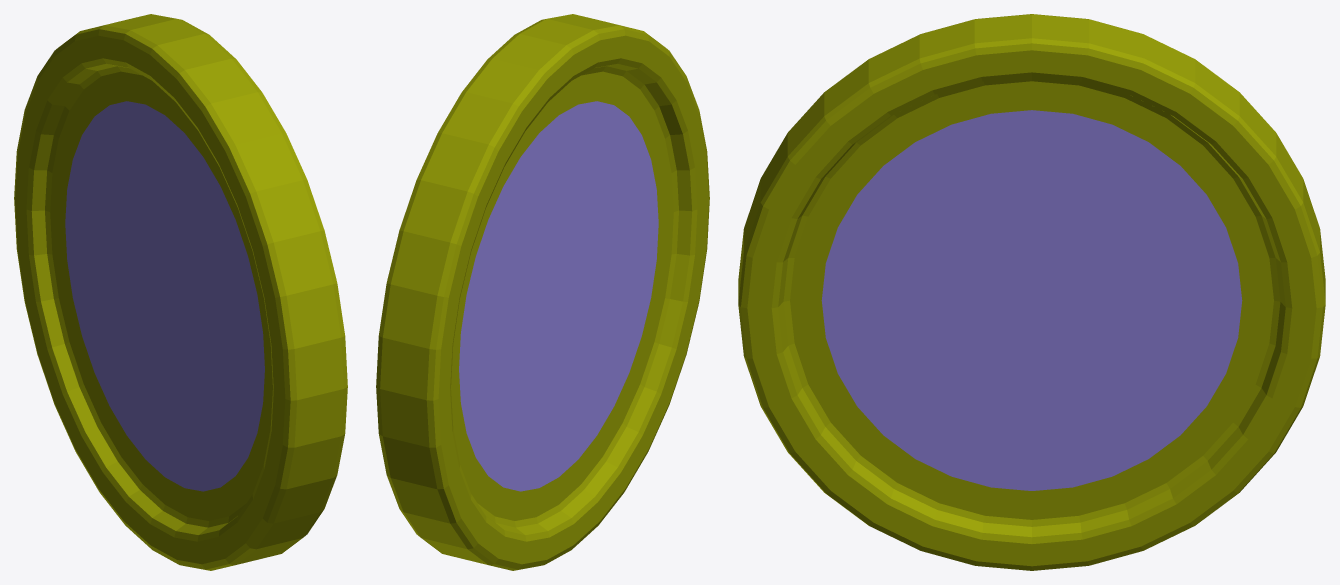
The model's file is placeholder_coin_rot_2.glb.
The picture shows the model from 3 angles, left to right: view 1: azimuth 30°, elevation 25°; view 2: azimuth 150°, elevation 25°; view 3: azimuth 270°, elevation 25°; orthographic projection. The views are drawn at different scales.
Parts seen in each view (by area): view 1: Cylinder.001; view 2: Cylinder.001; view 3: Cylinder.001.
Part boxes in pixels (x1=…): Cylinder.001: x1=14, y1=14, x2=347, y2=570; Cylinder.001: x1=376, y1=14, x2=709, y2=570; Cylinder.001: x1=738, y1=14, x2=1325, y2=570.
Bounding box in the file's own units: 0.2549 × 2 × 2.
